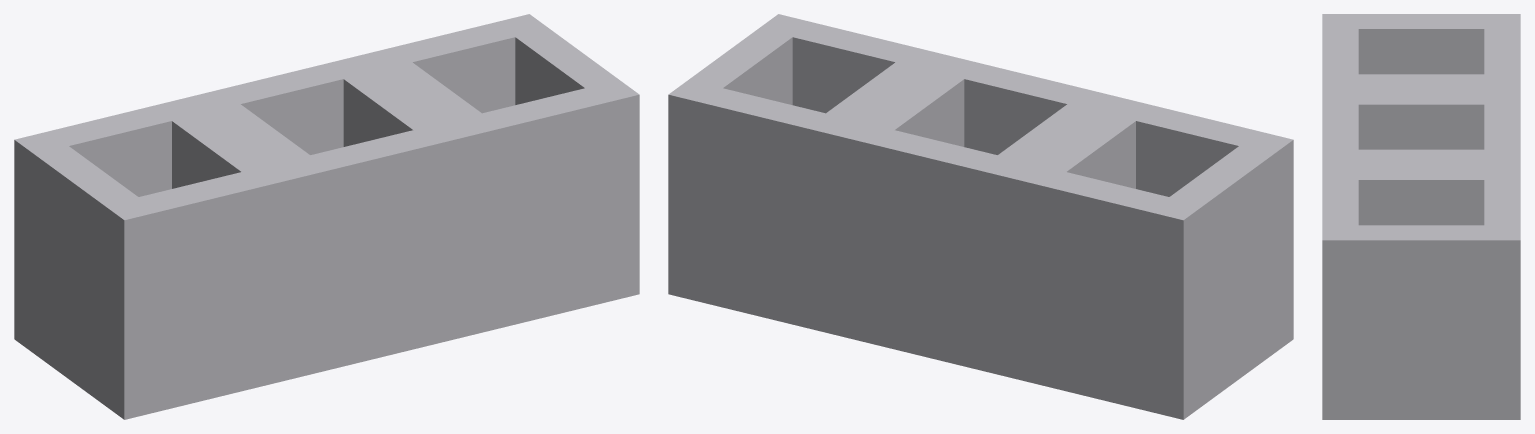
The model's file is Concrete_Block_03.fbx.
The picture shows the model from 3 angles, left to right: view 1: azimuth 30°, elevation 25°; view 2: azimuth 150°, elevation 25°; view 3: azimuth 270°, elevation 25°; orthographic projection. The views are drawn at different scales.
Visible parts, largest first — view 1: Concrete_Block_03; view 2: Concrete_Block_03; view 3: Concrete_Block_03.
Boxes of the visible parts, x1=… form: Concrete_Block_03: x1=14, y1=14, x2=639, y2=419; Concrete_Block_03: x1=668, y1=14, x2=1293, y2=419; Concrete_Block_03: x1=1322, y1=14, x2=1520, y2=419.
Size of the model in its own units: 64.81 by 24 by 24.
